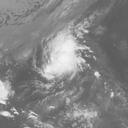cyclone: (45, 37, 82, 75)
